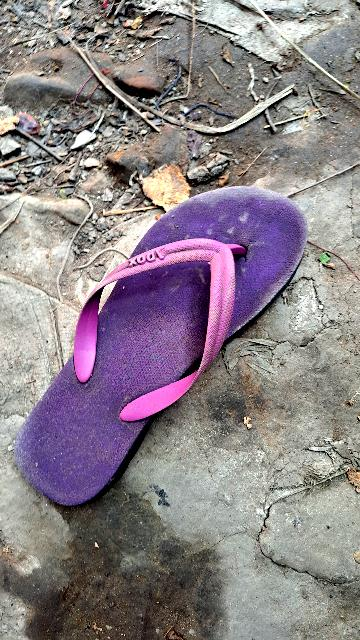sandal: (0, 139, 316, 530)
